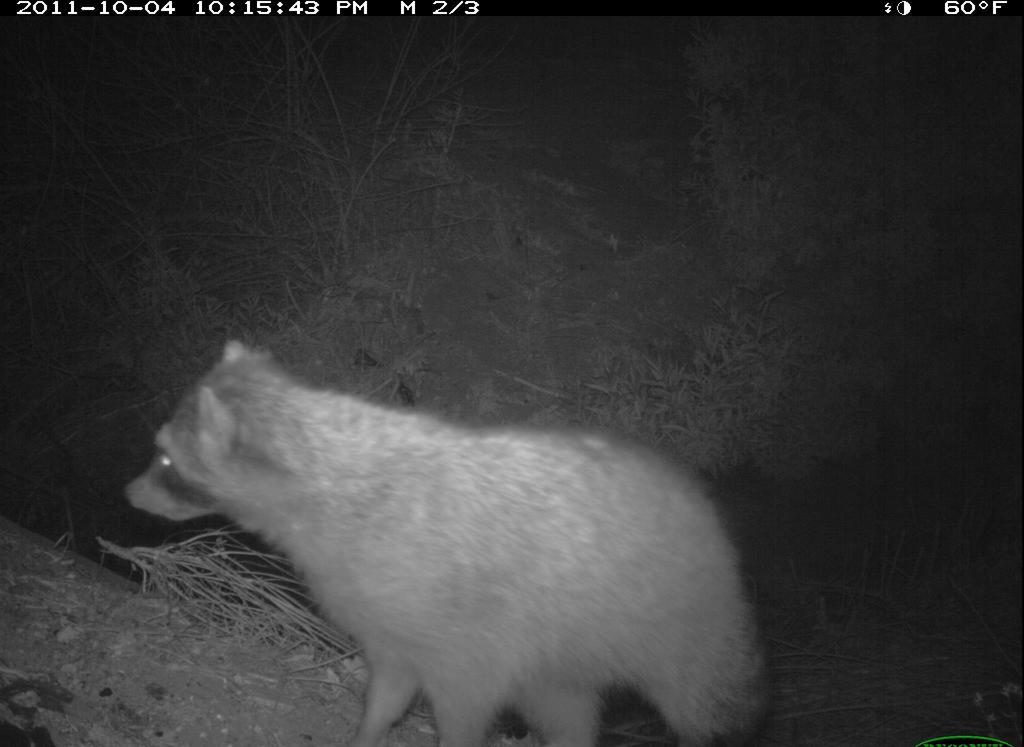raccoon: (125, 351, 785, 744)
